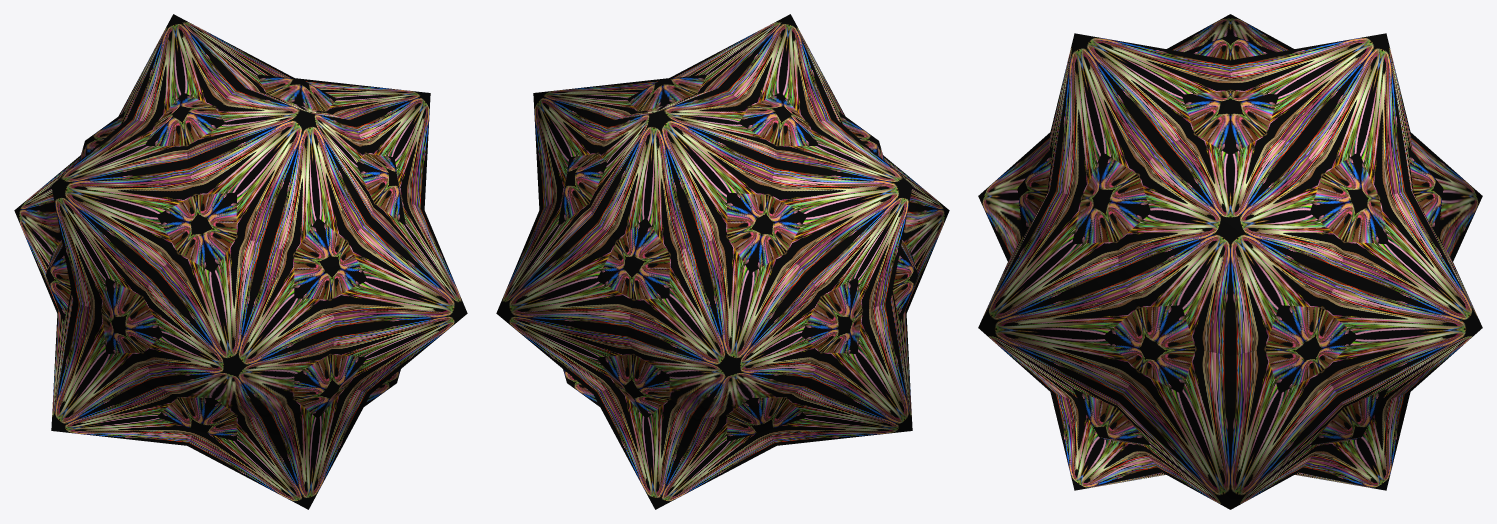
The model's file is GreatDitrigonalDodecacronicHexecontahedron9.gltf.
3 views of the same model, side by side, from view 1: azimuth 30°, elevation 25°; view 2: azimuth 150°, elevation 25°; view 3: azimuth 270°, elevation 25° (orthographic). The views are drawn at different scales.
Parts seen in each view (by area): view 1: GreatDitrigonalDodecacronicHexecontahedron9; view 2: GreatDitrigonalDodecacronicHexecontahedron9; view 3: GreatDitrigonalDodecacronicHexecontahedron9.
Part boxes in pixels (left/top/right/bottom): GreatDitrigonalDodecacronicHexecontahedron9: left=14, top=14, right=467, bottom=509; GreatDitrigonalDodecacronicHexecontahedron9: left=496, top=14, right=949, bottom=509; GreatDitrigonalDodecacronicHexecontahedron9: left=978, top=14, right=1482, bottom=509.
Bounding box in the file's own units: 2.35 × 2.35 × 2.35.
Materials: 1 (1 with a texture image).
